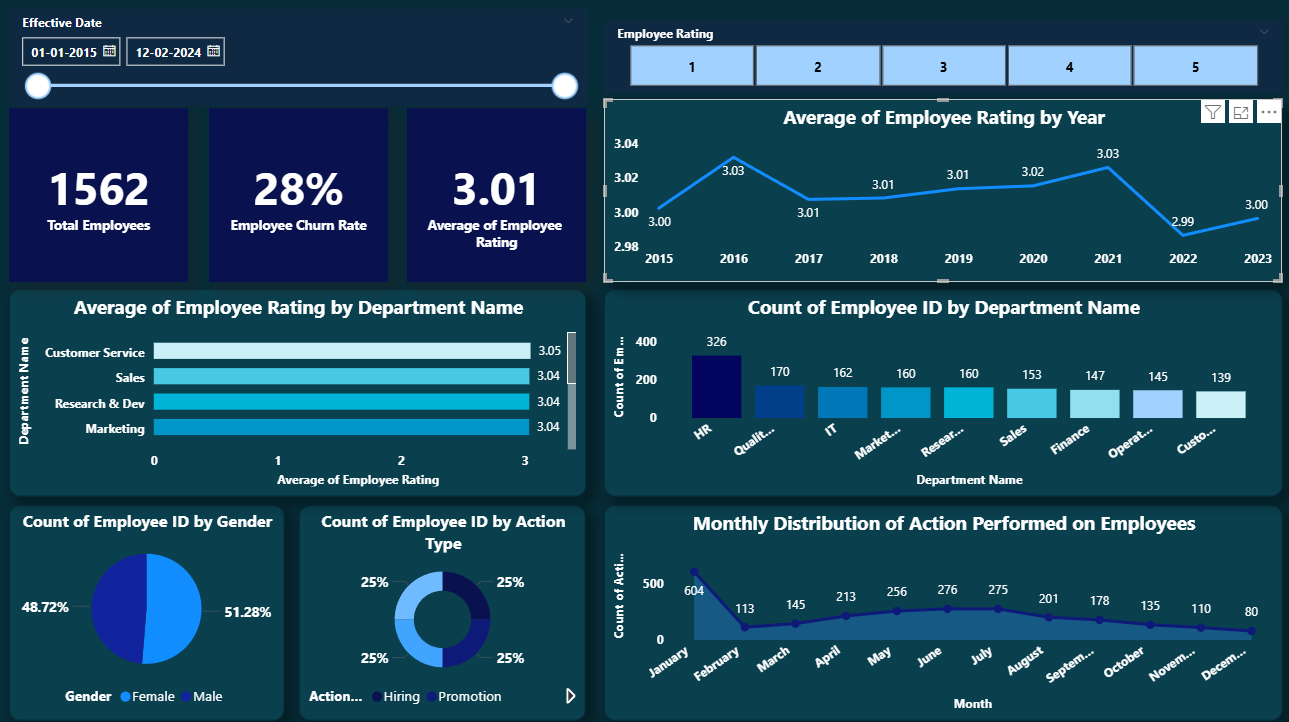

The dashboard page shown, as its layout file describes it:
{"tool":"powerbi","page":{"name":"Page 1","canvas":[1280,720],"ordinal":0},"visuals":[{"type":"areaChart","title":"Monthly Distribution of Action Performed on Employees","fields":{"Category":["Action Table.EffectiveDt.Variation.Date Hierarchy.Month"],"Y":["CountNonNull(Action Table.Action Type)"]},"box":[600.5,498.8,669.6,213.3],"z":0},{"type":"columnChart","fields":{"Category":["Employee Table.Department Name"],"Y":["CountNonNull(Employee Table.Employee ID)"]},"box":[600.5,285.4,669.6,205.4],"z":1},{"type":"lineChart","fields":{"Y":["Avg(Performance Table.Employee Rating)"],"Category":["Performance Table.Performance Evaluation Date.Variation.Date Hierarchy.Year"]},"box":[600.5,97.8,669.6,180.7],"z":2},{"type":"pieChart","fields":{"Category":["Employee Table.GenderID"],"Y":["CountNonNull(Employee Table.Employee ID)"]},"box":[12.8,498.8,271.6,213.3],"z":3},{"type":"donutChart","fields":{"Category":["Action Table.Action Type"],"Y":["CountNonNull(Employee Table.Employee ID)"]},"box":[299.3,498.8,283.5,213.3],"z":4},{"type":"barChart","fields":{"Category":["Employee Table.Department Name"],"Y":["Avg(Performance Table.Employee Rating)"]},"box":[12.8,285.4,569.9,205.4],"z":5},{"type":"card","fields":{"Values":["Employee Table.Total Employees"]},"box":[12.8,106.7,176.8,171.9],"z":6},{"type":"card","fields":{"Values":["Employee Table.Employee Churn Rate"]},"box":[210.4,106.7,176.8,171.9],"z":7},{"type":"card","fields":{"Values":["Avg(Performance Table.Employee Rating)"]},"box":[405.9,106.7,176.8,171.9],"z":8},{"type":"slicer","fields":{"Values":["Performance Table.Employee Rating"]},"box":[600.5,19.8,669.6,72.1],"z":9},{"type":"slicer","fields":{"Values":["Action Table.EffectiveDt"]},"box":[12.8,8.9,569.9,94.8],"z":10}]}

Visuals, with their boxes in screenshot pixels (x1, y1, x2, y2), scaled from the page's 1280x720 canvas onto the 1289x722 screenshot:
"Monthly Distribution of Action Performed on Employees" areaChart: BBox(605, 500, 1279, 714)
columnChart - Employee Table.Department Name x CountNonNull(Employee Table.Employee ID): BBox(605, 286, 1279, 492)
lineChart - Avg(Performance Table.Employee Rating) x Performance Table.Performance Evaluation Date.Variation.Date Hierarchy.Year: BBox(605, 98, 1279, 279)
pieChart - Employee Table.GenderID x CountNonNull(Employee Table.Employee ID): BBox(13, 500, 286, 714)
donutChart - Action Table.Action Type x CountNonNull(Employee Table.Employee ID): BBox(301, 500, 587, 714)
barChart - Employee Table.Department Name x Avg(Performance Table.Employee Rating): BBox(13, 286, 587, 492)
card - Employee Table.Total Employees: BBox(13, 107, 191, 279)
card - Employee Table.Employee Churn Rate: BBox(212, 107, 390, 279)
card - Avg(Performance Table.Employee Rating): BBox(409, 107, 587, 279)
slicer - Performance Table.Employee Rating: BBox(605, 20, 1279, 92)
slicer - Action Table.EffectiveDt: BBox(13, 9, 587, 104)
